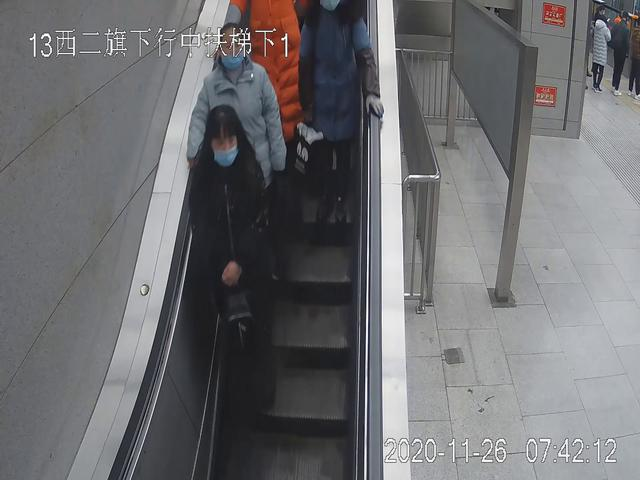person: (189, 104, 281, 410), (185, 25, 286, 275), (296, 1, 383, 220), (612, 17, 630, 96), (590, 17, 606, 93)
